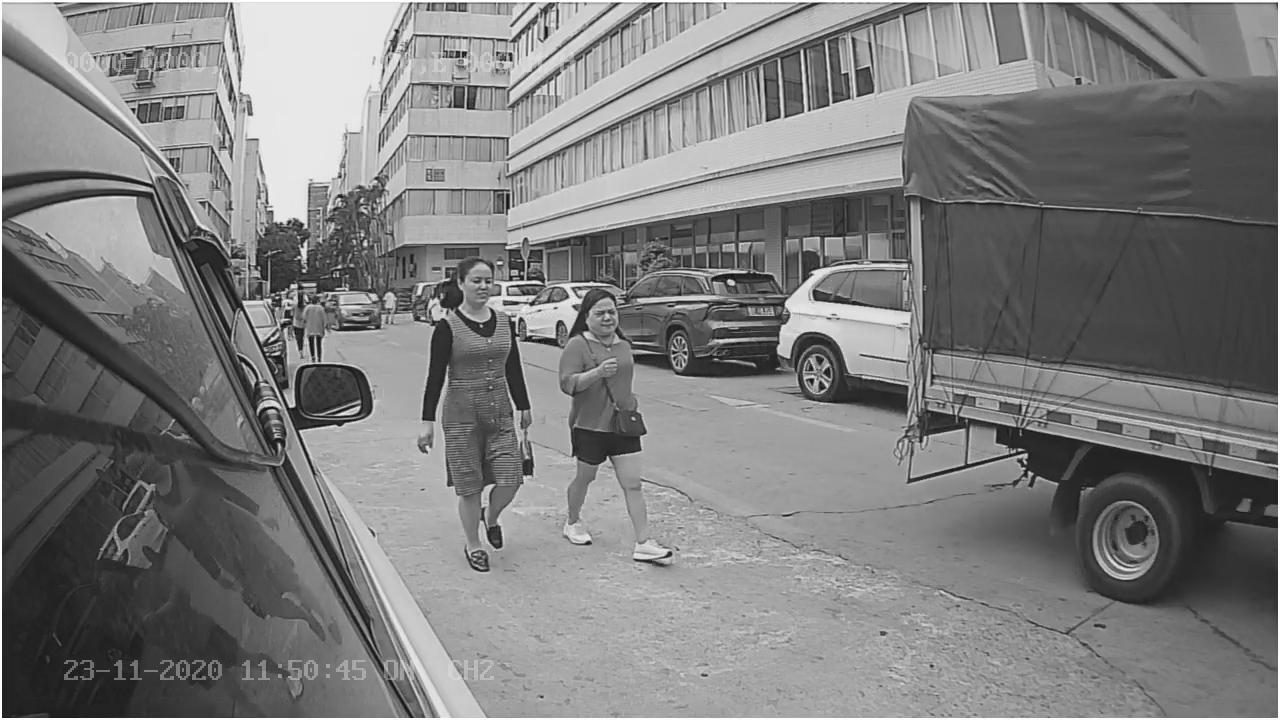person: (420, 254, 532, 573), (559, 279, 680, 569)
